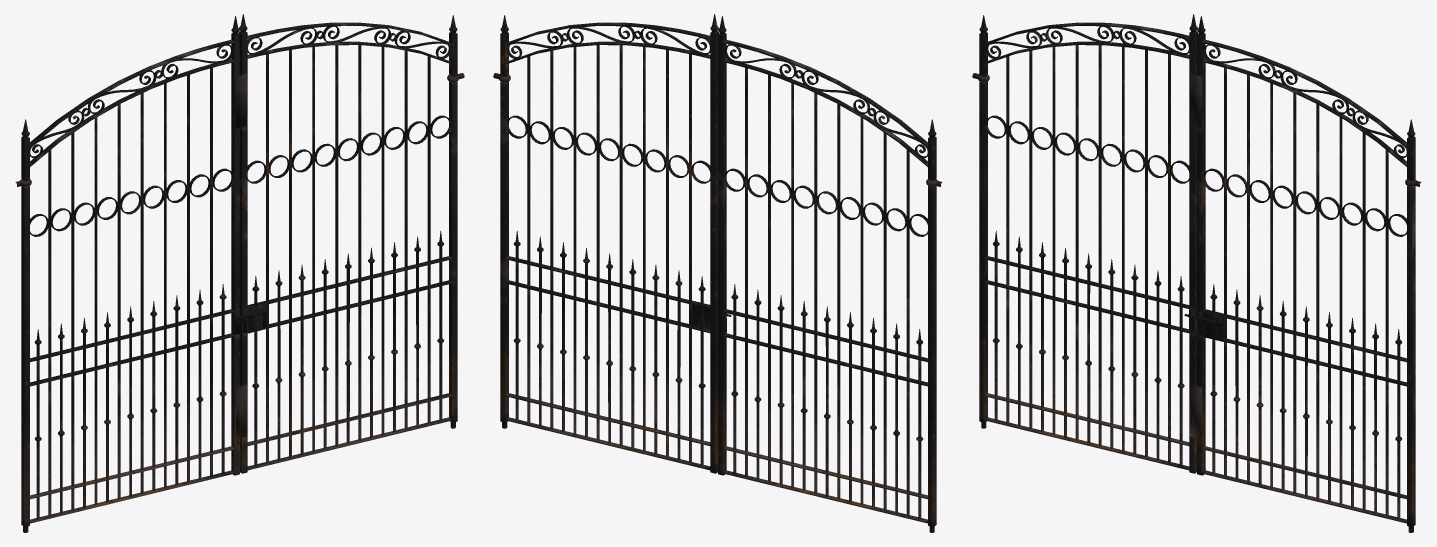
The model's file is large_iron_gate.glb.
3 renders of one model, left to right at view 1: azimuth 30°, elevation 25°; view 2: azimuth 150°, elevation 25°; view 3: azimuth 330°, elevation 25°, orthographic.
Visible parts, largest first — view 1: large_iron_gate_right_door; view 2: large_iron_gate_right_door; view 3: large_iron_gate_right_door.
Boxes of the visible parts, x1,y1,x2,y2 form: large_iron_gate_right_door: (15,14,464,532); large_iron_gate_right_door: (493,14,942,532); large_iron_gate_right_door: (972,14,1421,532).
Bounding box in the file's own units: 2.95 × 2.93 × 0.0972.
Materials: 1 (1 with a texture image).
